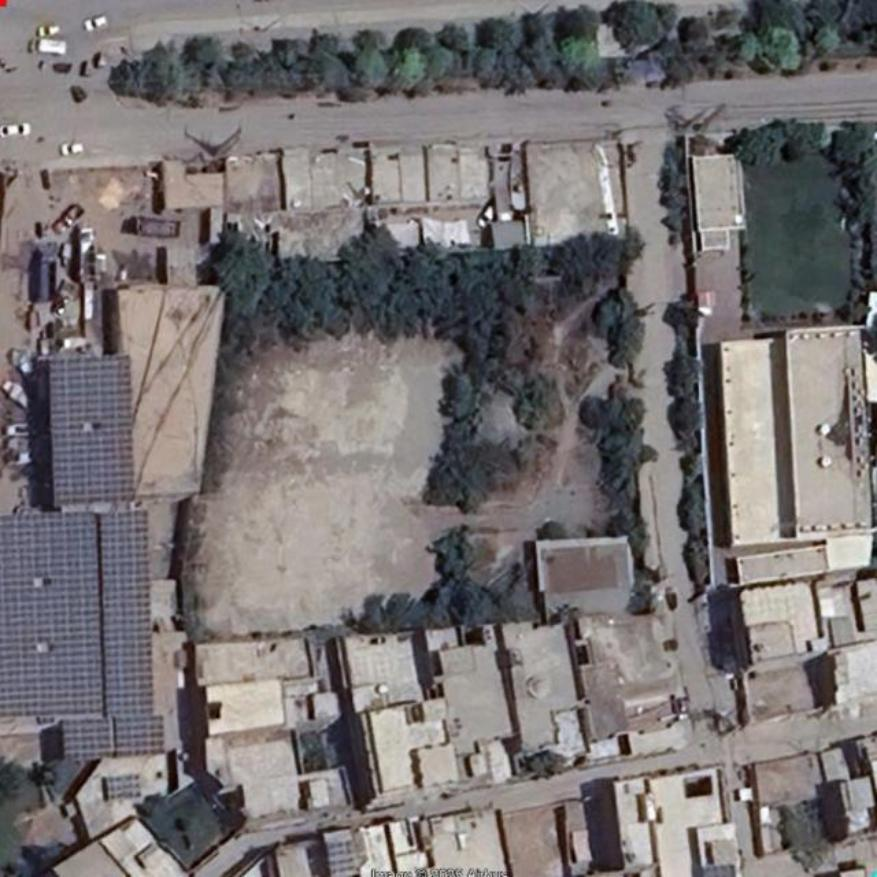Solarpanel: (0, 513, 104, 717), (47, 354, 135, 501), (102, 507, 153, 719), (61, 714, 165, 761), (104, 774, 140, 798)
